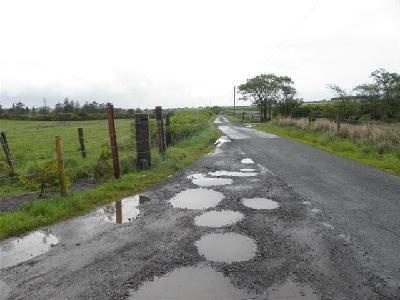pothole: (115, 261, 256, 299), (191, 228, 260, 263), (258, 272, 325, 299), (169, 186, 227, 210), (191, 207, 244, 229), (239, 193, 283, 210), (185, 173, 232, 187), (208, 170, 259, 178), (239, 155, 255, 164)
